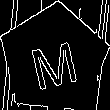M_N: (26, 29, 81, 89)
